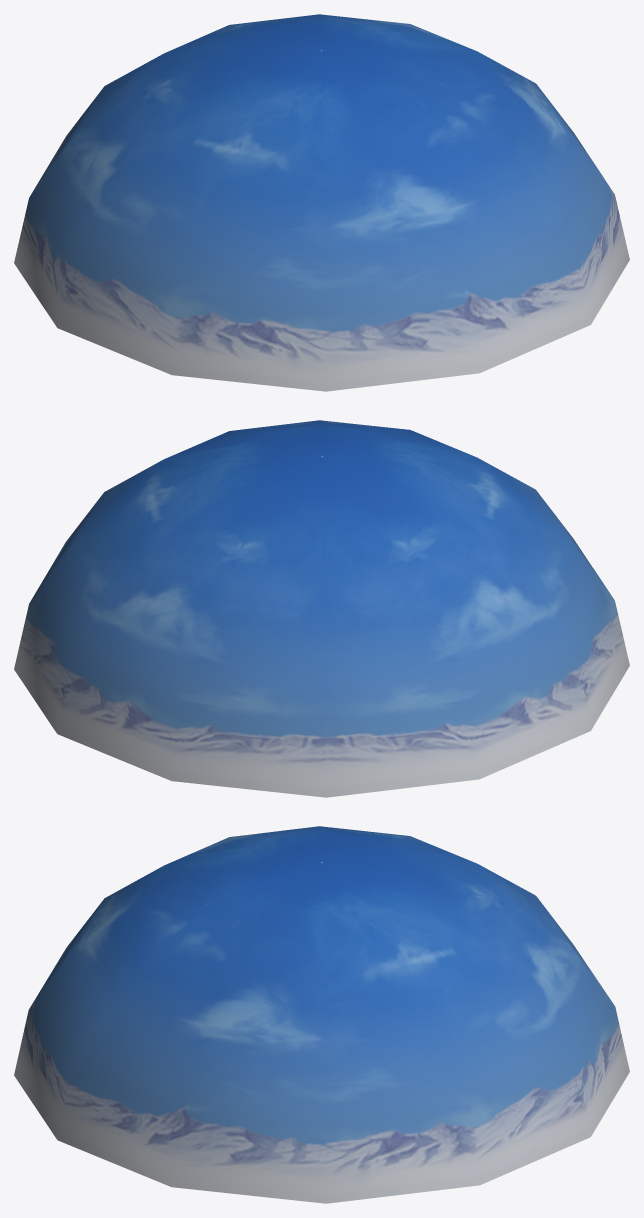
File: env_nev_publichouse_ext_01_pre.glb
The picture shows the model from 3 angles, top to bottom: view 1: azimuth 30°, elevation 25°; view 2: azimuth 150°, elevation 25°; view 3: azimuth 270°, elevation 25°; orthographic projection.
Visible parts, largest first — view 1: skybox_01_mesh (2); view 2: skybox_01_mesh (2); view 3: skybox_01_mesh (2).
Part boxes in pixels (<box>): skybox_01_mesh (2): <box>14,14,629,391</box>; skybox_01_mesh (2): <box>14,420,629,797</box>; skybox_01_mesh (2): <box>14,826,629,1203</box>.
Bounding box in the file's own units: 290 × 109 × 290.
33 materials, 33 textured.
